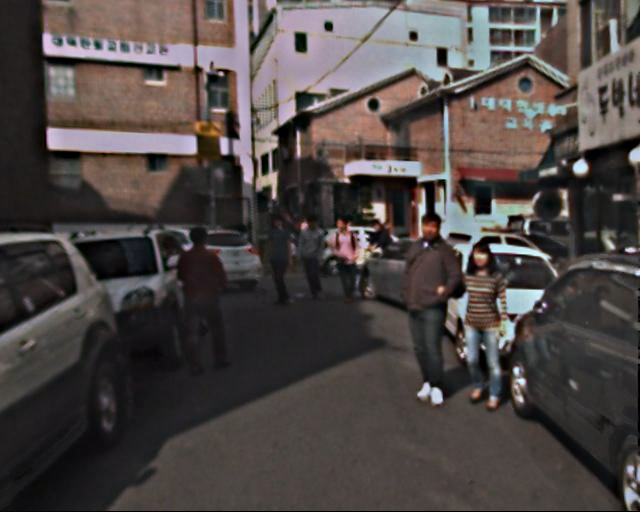person: (388, 213, 466, 403), (448, 244, 517, 412), (169, 226, 231, 376), (258, 216, 297, 310), (324, 216, 360, 304), (296, 216, 329, 297), (366, 215, 392, 278)
